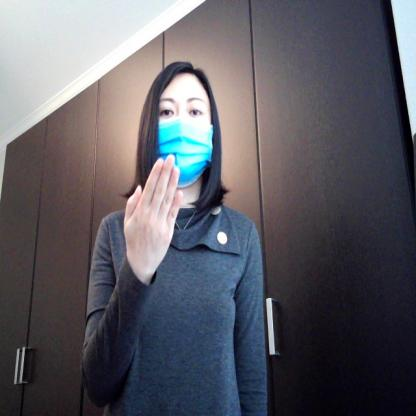thanks: (123, 153, 186, 279)
